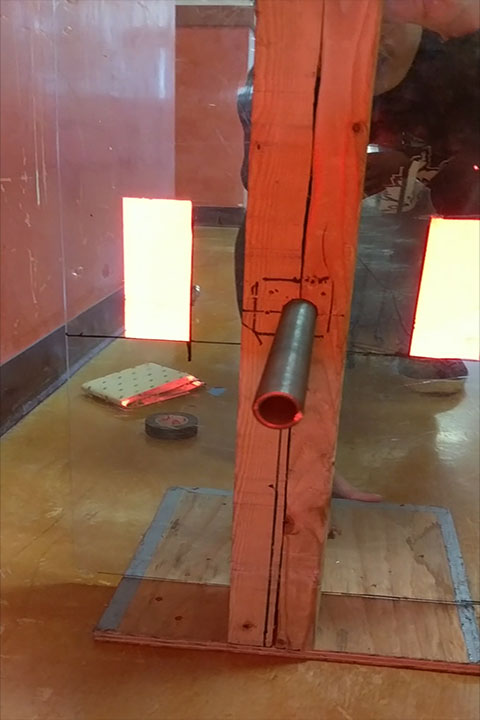gear: (121, 195, 192, 345), (407, 217, 480, 360)
